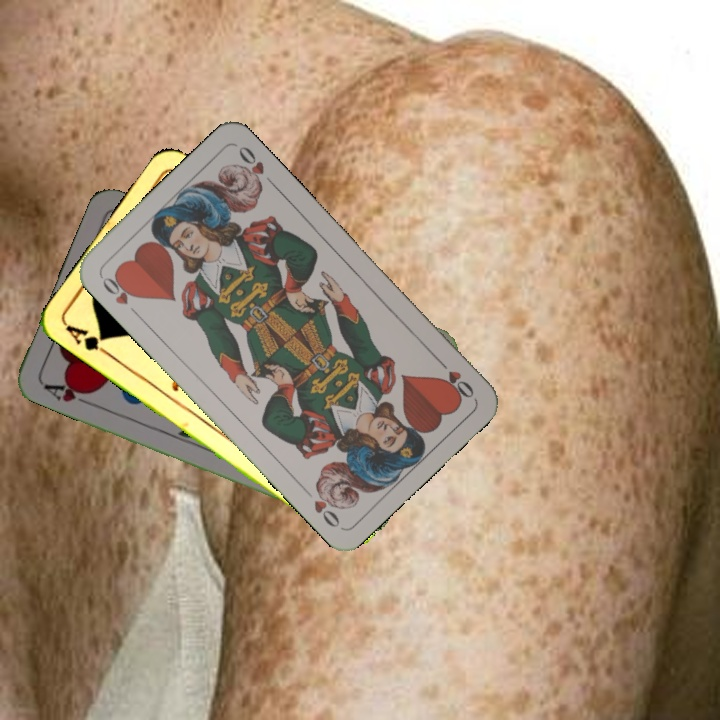GA: (61, 320, 114, 360)
HA: (39, 377, 97, 409)
HO: (97, 270, 142, 319), (432, 353, 477, 401)
